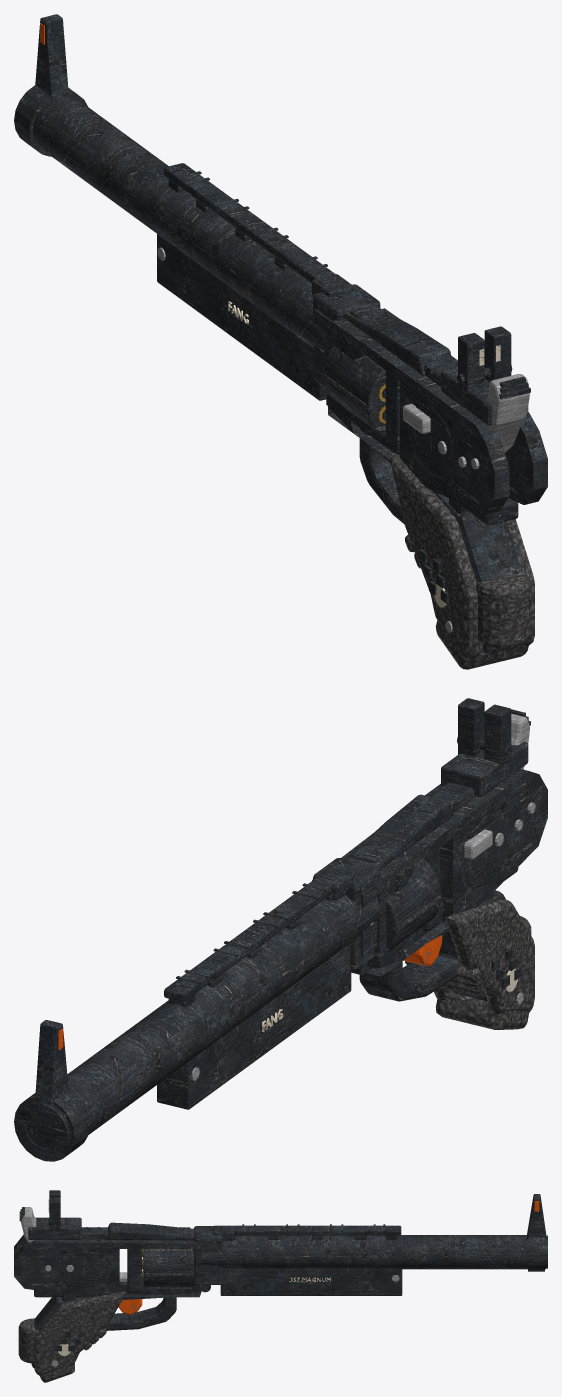
The model's file is fang.gltf.
3 renders of one model, top to bottom at view 1: azimuth 30°, elevation 25°; view 2: azimuth 150°, elevation 25°; view 3: azimuth 270°, elevation 25°, orthographic. The views are drawn at different scales.
Parts seen in each view (by area): view 1: body, mag cylinder, bolt hammer; view 2: body, mag cylinder, bolt hammer, trigger; view 3: body, mag cylinder, bolt hammer, trigger.
Boxes of the visible parts, x1=… form: body: x1=14, y1=14, x2=547, y2=669; mag cylinder: x1=323, y1=346, x2=385, y2=436; bolt hammer: x1=486, y1=374, x2=530, y2=452; body: x1=14, y1=698, x2=547, y2=1161; mag cylinder: x1=386, y1=859, x2=441, y2=952; bolt hammer: x1=511, y1=709, x2=530, y2=769; trigger: x1=404, y1=935, x2=442, y2=966; body: x1=14, y1=1190, x2=547, y2=1382; mag cylinder: x1=143, y1=1249, x2=193, y2=1288; bolt hammer: x1=19, y1=1207, x2=42, y2=1242; trigger: x1=118, y1=1272, x2=142, y2=1314.
Size of the model in its own units: 0.051 by 0.2074 by 0.561.
Materials: 7 (7 with a texture image).
